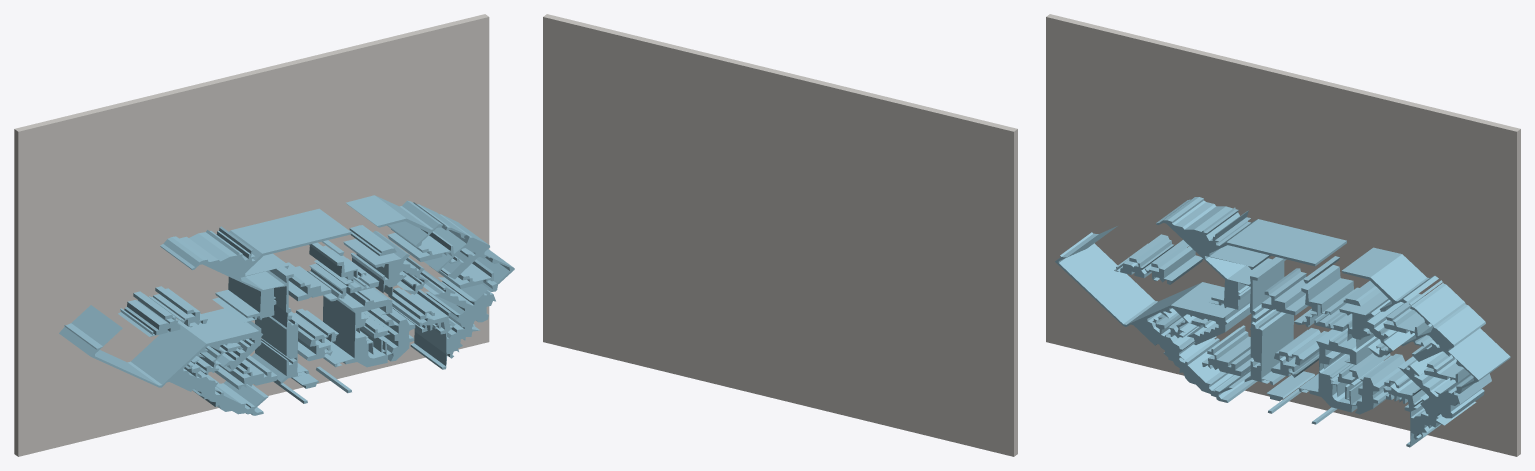
3 views of the same model, side by side, from view 1: azimuth 30°, elevation 25°; view 2: azimuth 150°, elevation 25°; view 3: azimuth 330°, elevation 25° (orthographic).
Parts seen in each view (by area): view 1: world; view 2: world; view 3: world.
Part boxes in pixels (box(x1,y1,x2,y2)): world: box(14, 14, 514, 456); world: box(543, 14, 1017, 456); world: box(1046, 14, 1520, 456).
Bounding box in the file's own units: 10.23 × 6.75 × 1.35.
